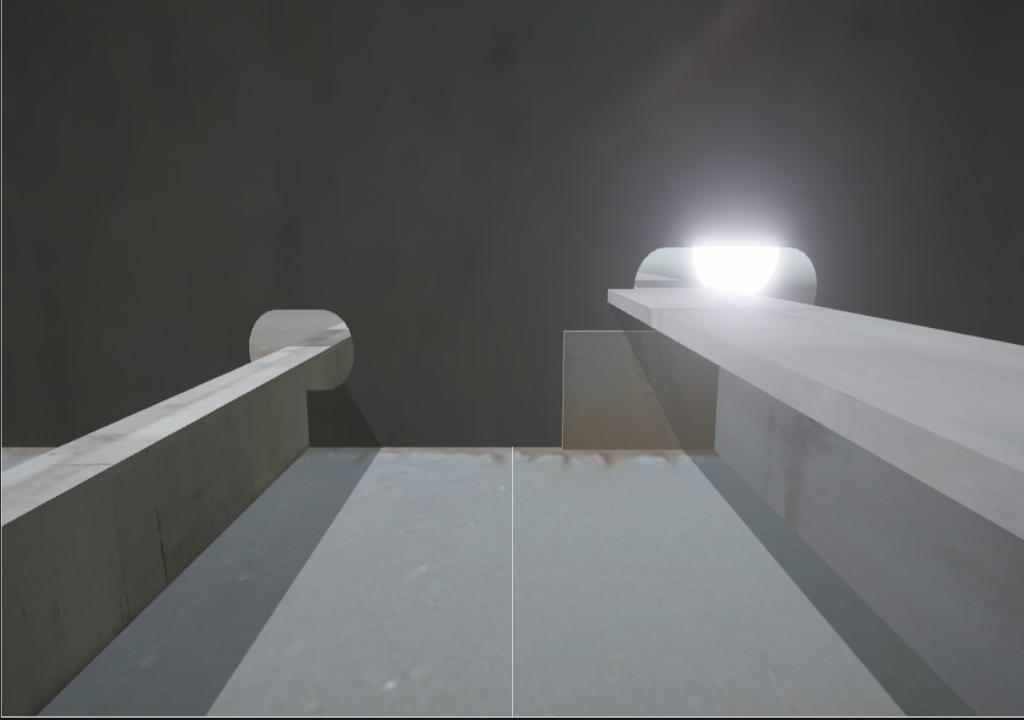fillet_yong_jeop_jang: (310, 437, 564, 459)
longi_yong_jeop_jang: (301, 384, 317, 453)
plate_CP01: (562, 330, 720, 450)
